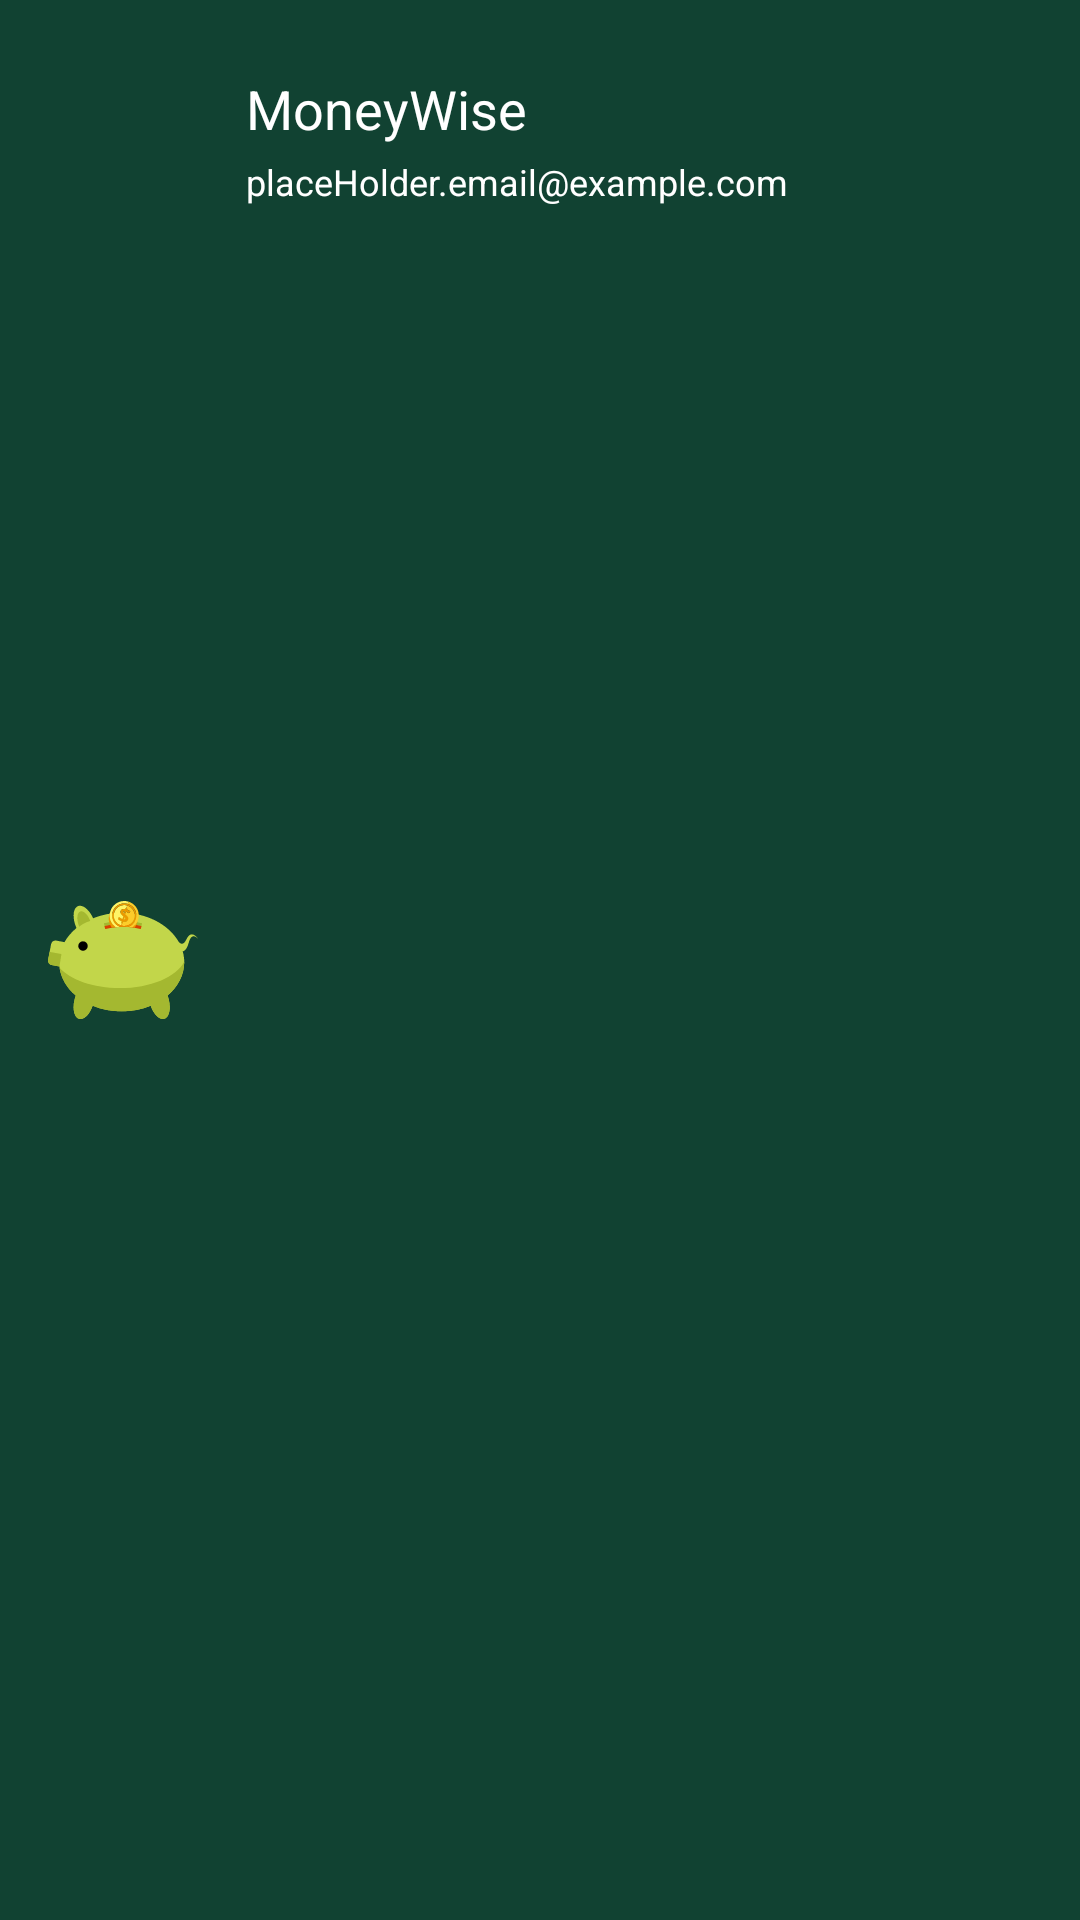

Point at icon controls on the screen. Image size 1080px×1920px, points as (x=x, y=y).
piggy bank: (x=122, y=960)
